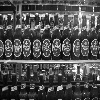beer: (34, 14, 44, 60)
